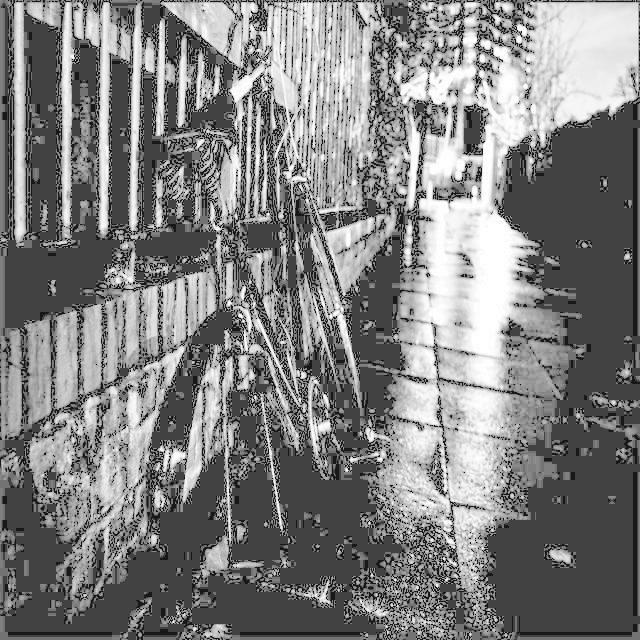Bicycle: (159, 66, 386, 543)
